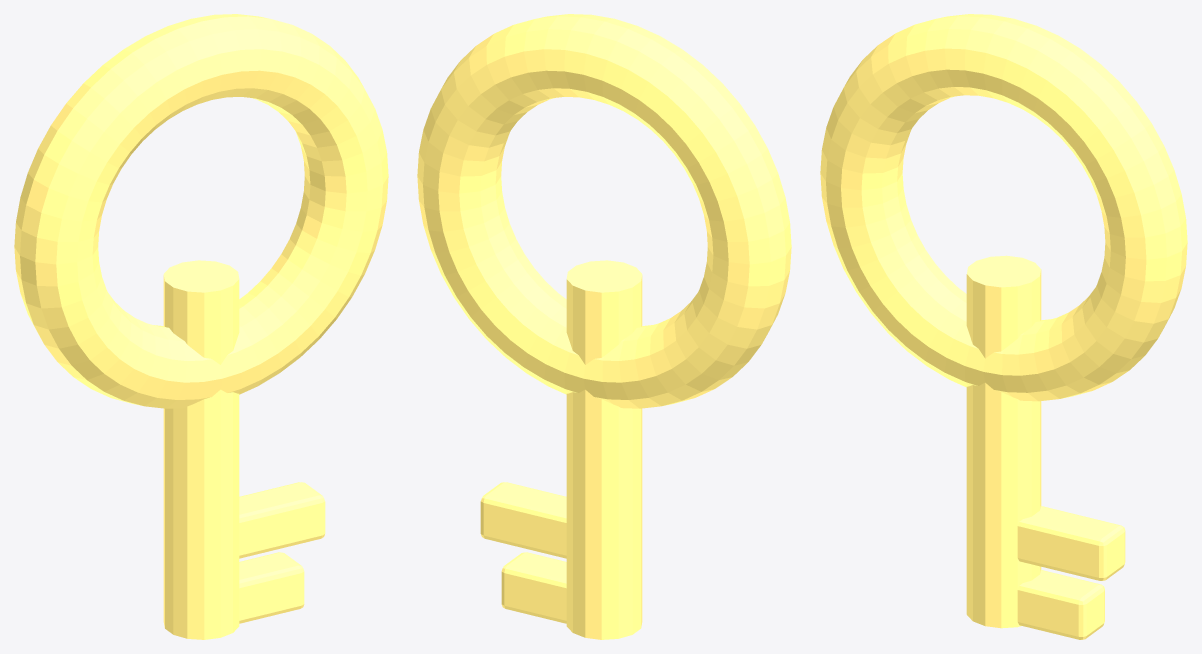
File: collectible_key.glb
3 views of the same model, side by side, from view 1: azimuth 30°, elevation 25°; view 2: azimuth 150°, elevation 25°; view 3: azimuth 330°, elevation 25° (orthographic).
Parts seen in each view (by area): view 1: KeyBow, KeyShaft, KeyToothA, KeyToothB; view 2: KeyBow, KeyShaft, KeyToothA, KeyToothB; view 3: KeyBow, KeyShaft, KeyToothA, KeyToothB.
Boxes of the visible parts, x1,y1,x2,y2 form: KeyBow: (14, 14, 388, 408); KeyShaft: (163, 260, 239, 639); KeyToothA: (239, 482, 325, 558); KeyToothB: (239, 552, 304, 623); KeyBow: (417, 14, 791, 408); KeyShaft: (566, 260, 642, 639); KeyToothA: (480, 482, 566, 558); KeyToothB: (501, 552, 566, 623); KeyBow: (820, 14, 1187, 401); KeyShaft: (966, 255, 1041, 628); KeyToothA: (1017, 506, 1125, 580); KeyToothB: (1017, 570, 1104, 639).
Size of the model in its own units: 0.2838 by 0.45 by 0.0568.
